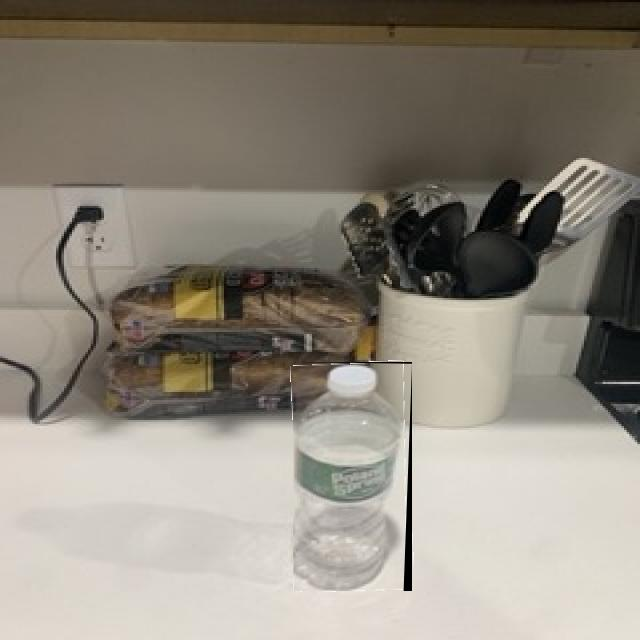water_bottle: (293, 362, 412, 591)
